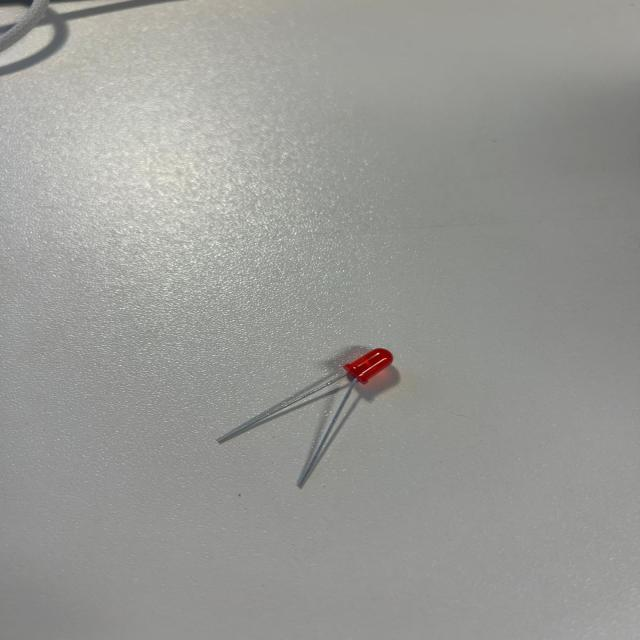REDLed: (204, 326, 411, 497)
